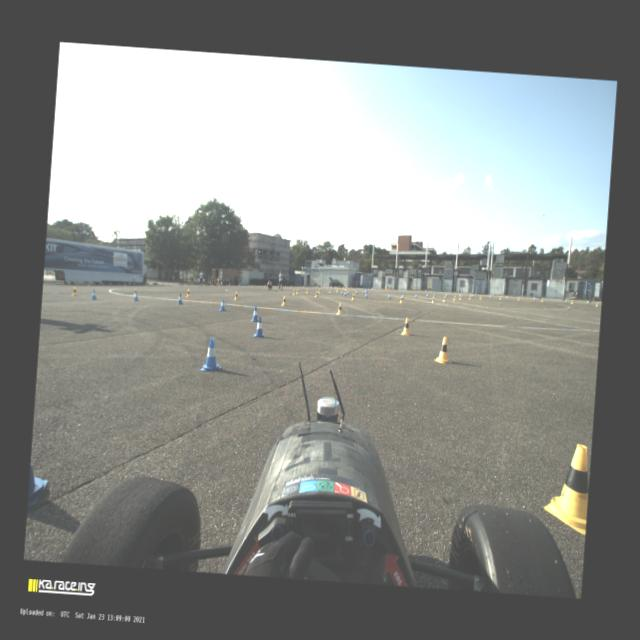blue_cone: (27, 462, 48, 507), (200, 336, 223, 372), (253, 316, 266, 338), (251, 306, 260, 322), (218, 298, 226, 311), (132, 290, 140, 301), (176, 292, 183, 304), (90, 289, 97, 299), (364, 292, 368, 298), (388, 293, 391, 299), (343, 290, 346, 296), (414, 292, 417, 298), (364, 288, 367, 294), (354, 290, 358, 294), (340, 290, 343, 295), (426, 292, 428, 298), (433, 292, 435, 298), (488, 294, 491, 298), (402, 293, 404, 298), (346, 290, 348, 295), (225, 283, 228, 286), (253, 284, 256, 287), (445, 292, 447, 296), (470, 294, 472, 298), (506, 295, 508, 299), (533, 296, 535, 300), (586, 300, 588, 304), (458, 293, 460, 297), (564, 298, 566, 302), (132, 282, 134, 286), (102, 282, 104, 286), (162, 282, 164, 286), (180, 282, 182, 286), (314, 284, 316, 288), (362, 290, 364, 294), (370, 288, 372, 292), (198, 283, 200, 286), (284, 284, 286, 287), (350, 286, 352, 289), (357, 286, 358, 290), (300, 284, 301, 288), (362, 287, 363, 290), (368, 288, 368, 291)
large_orange_cone: (216, 281, 218, 286), (228, 282, 230, 286)
yellow_cone: (542, 442, 591, 534), (434, 336, 452, 364), (400, 316, 411, 336), (336, 302, 342, 314), (71, 286, 78, 296), (281, 296, 287, 306), (233, 291, 239, 300), (132, 287, 137, 296), (185, 288, 190, 296), (398, 295, 403, 303), (350, 292, 354, 300), (442, 295, 446, 302), (458, 294, 462, 300), (452, 295, 456, 301), (315, 290, 318, 298), (292, 289, 295, 295), (431, 297, 434, 303), (468, 294, 471, 300), (328, 288, 331, 293), (296, 288, 298, 294), (570, 298, 572, 304), (167, 282, 170, 286), (306, 288, 308, 293), (499, 295, 501, 300), (479, 294, 481, 299), (596, 302, 598, 307), (88, 281, 90, 286), (146, 282, 148, 287), (186, 282, 188, 287), (318, 288, 320, 293), (540, 298, 542, 302), (518, 296, 520, 300), (203, 283, 205, 287), (218, 283, 220, 287), (238, 282, 240, 286), (250, 283, 252, 287), (290, 284, 292, 288), (302, 284, 304, 288), (316, 284, 318, 288), (339, 286, 341, 290), (342, 286, 344, 290), (344, 286, 346, 290), (336, 288, 338, 292), (124, 282, 125, 286), (264, 284, 265, 288), (335, 286, 336, 290), (326, 286, 328, 288)
